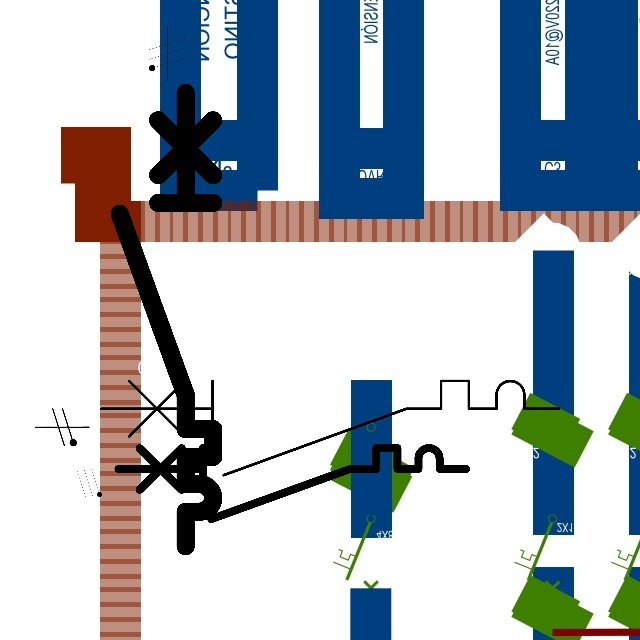interruptor_termomagnetico: (89, 369, 571, 487), (108, 80, 225, 557), (109, 439, 474, 528)
